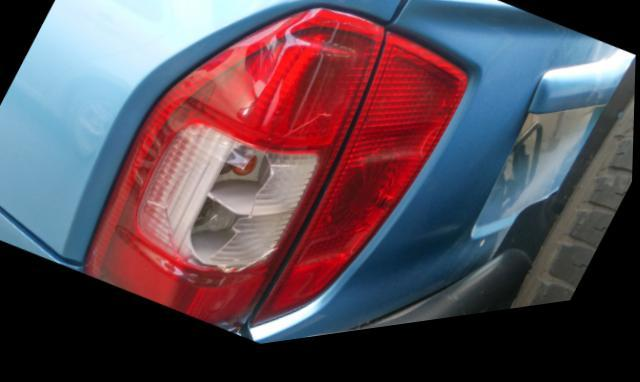lamp broken: (85, 16, 383, 336)
